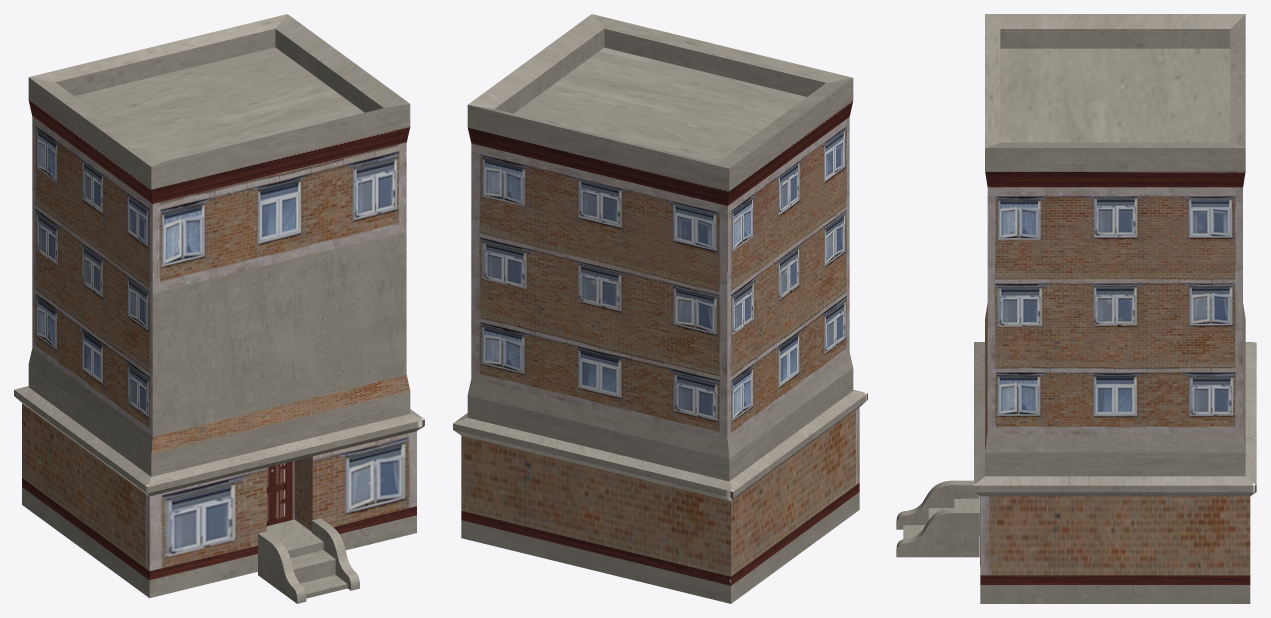
File: Simple Apartment.FBX
3 views of the same model, side by side, from view 1: azimuth 30°, elevation 25°; view 2: azimuth 150°, elevation 25°; view 3: azimuth 270°, elevation 25° (orthographic). The views are drawn at different scales.
Visible parts, largest first — view 1: Box001, Line002; view 2: Box001; view 3: Box001, Line002.
Boxes of the visible parts, <box> form: Box001: <box>14,14,424,598</box>; Line002: <box>258,518,359,603</box>; Box001: <box>453,14,867,603</box>; Box001: <box>903,14,1256,603</box>; Line002: <box>896,480,979,557</box>.
Bounding box in the file's own units: 123 × 130 × 182.
1 material, 1 textured.
